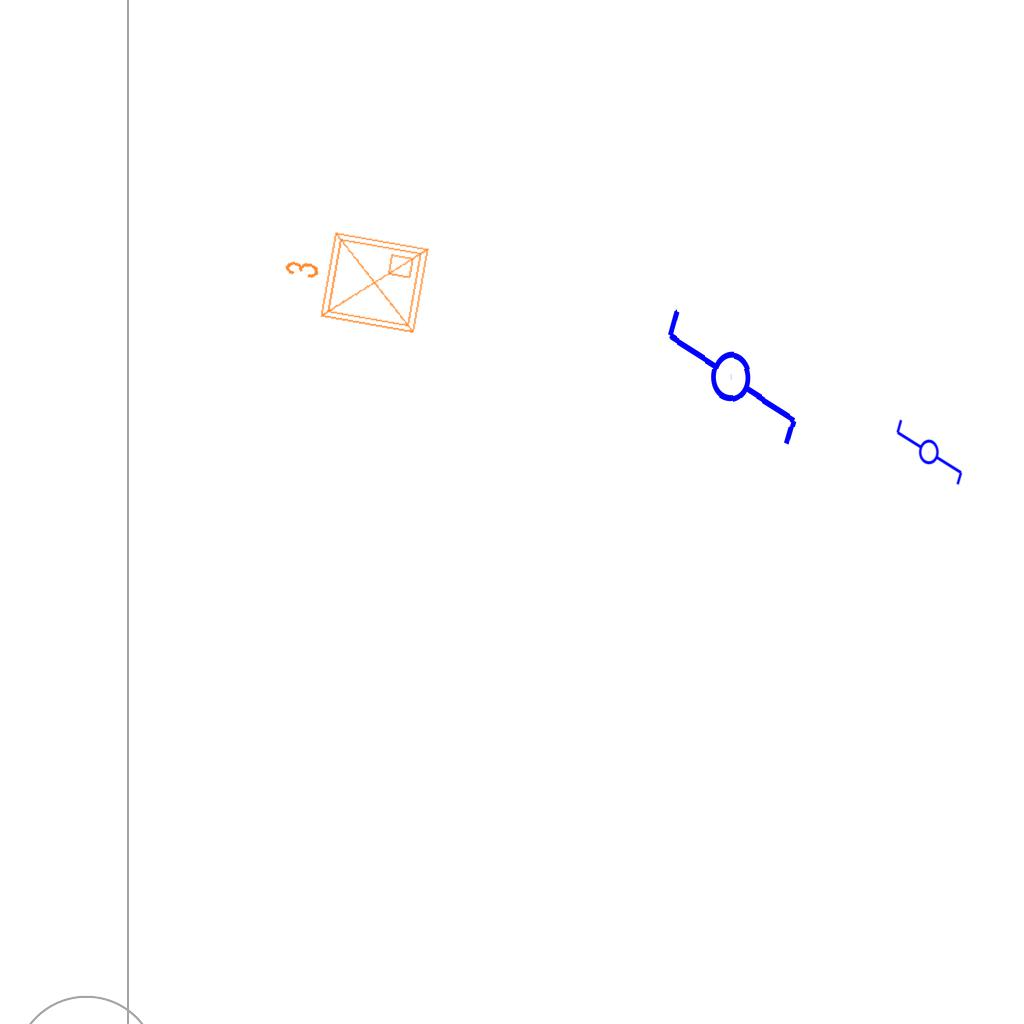Einbaudownlights_LED_Konferenzraeume: (271, 216, 437, 346)
Wechselschalter: (658, 288, 809, 450), (894, 409, 966, 487)
